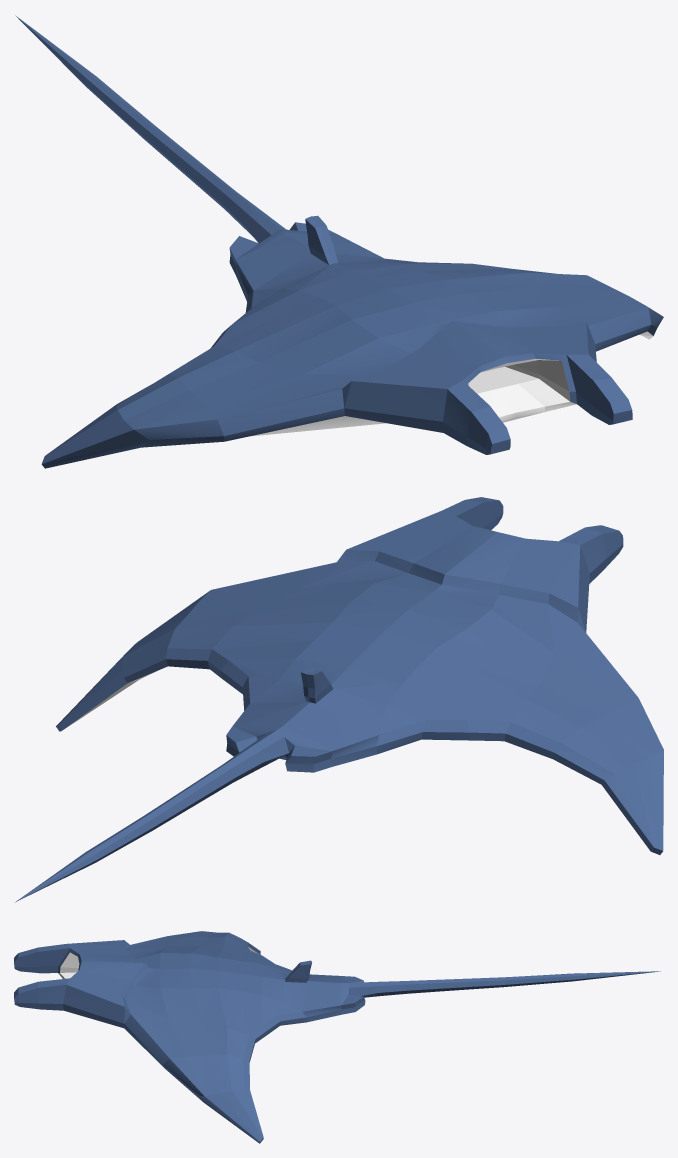
File: nage-manta-ray.glb
3 views of the same model, one above another, from view 1: azimuth 30°, elevation 25°; view 2: azimuth 150°, elevation 25°; view 3: azimuth 270°, elevation 25° (orthographic). The views are drawn at different scales.
Parts seen in each view (by area): view 1: MantaRay_1, MantaRay_2; view 2: MantaRay_1; view 3: MantaRay_1, MantaRay_2.
Boxes of the visible parts, bbox=[...] form: MantaRay_1: bbox=[15, 15, 663, 468]; MantaRay_2: bbox=[249, 331, 653, 436]; MantaRay_1: bbox=[14, 497, 663, 902]; MantaRay_1: bbox=[14, 931, 660, 1143]; MantaRay_2: bbox=[58, 946, 258, 978].
Size of the model in its own units: 1.94 by 0.4969 by 3.
